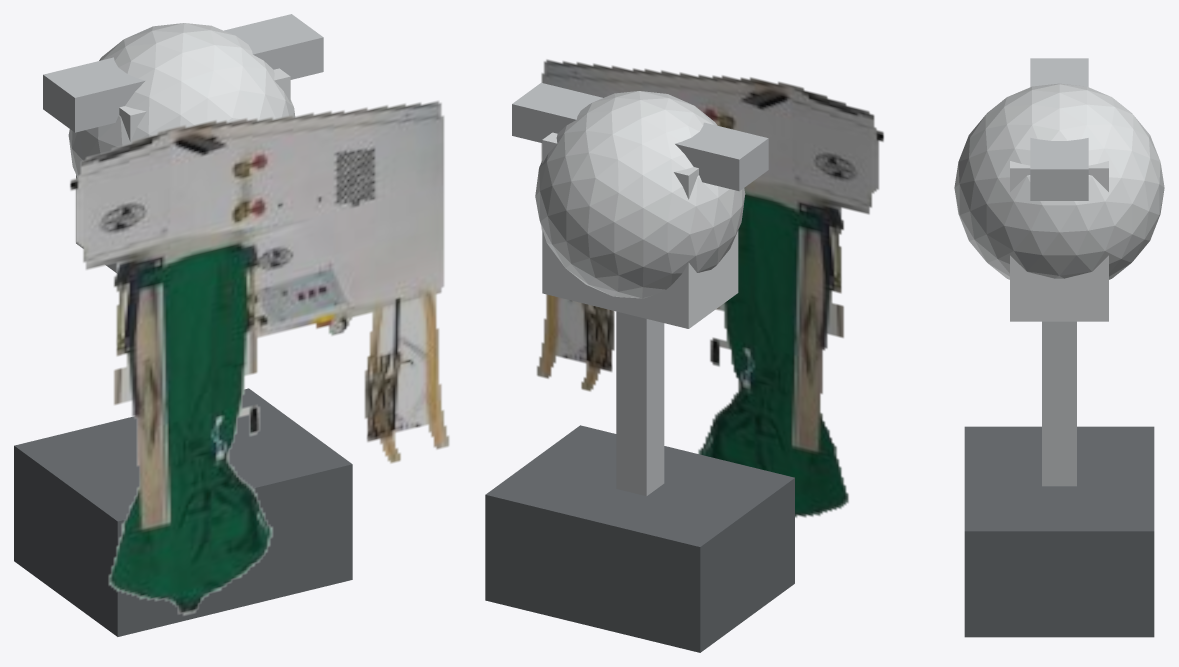
File: form-finisher.glb
3 renders of one model, left to right at view 1: azimuth 30°, elevation 25°; view 2: azimuth 150°, elevation 25°; view 3: azimuth 270°, elevation 25°, orthographic. The views are drawn at different scales.
Visible parts, largest first — view 1: front_decal, base, torso, shoulders, torso_trim; view 2: front_decal, base, torso, mast, torso_trim, shoulders; view 3: base, torso, torso_trim, mast, shoulders.
Part boxes in pixels (x1,y1,x2,y2): front_decal: (70, 100, 449, 615); base: (14, 388, 352, 636); torso: (68, 23, 295, 178); shoulders: (43, 14, 323, 132); torso_trim: (76, 68, 290, 272); front_decal: (536, 59, 883, 517); base: (485, 425, 794, 652); torso: (535, 91, 745, 298); mast: (616, 311, 664, 496); torso_trim: (542, 132, 738, 328); shoulders: (512, 82, 768, 191); base: (964, 426, 1154, 637); torso: (954, 83, 1164, 279); torso_trim: (1010, 161, 1108, 321); mast: (1042, 321, 1076, 486); shoulders: (1030, 58, 1088, 200).
Size of the model in its own units: 1.43 by 1.86 by 0.84.
Materials: 4 (1 with a texture image).
